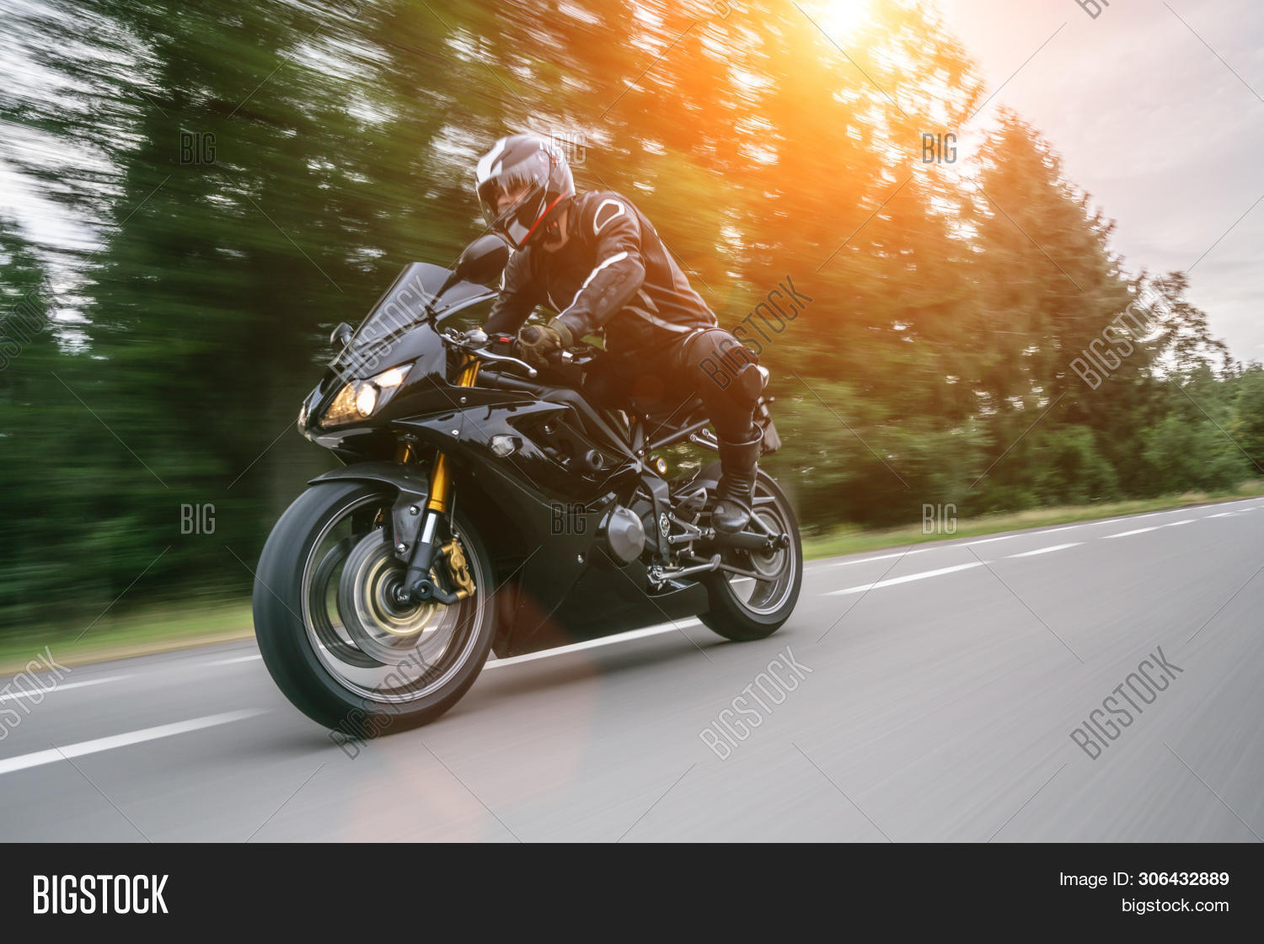Motorcycle: (245, 265, 866, 742)
